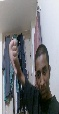hand: (8, 38, 20, 75)
